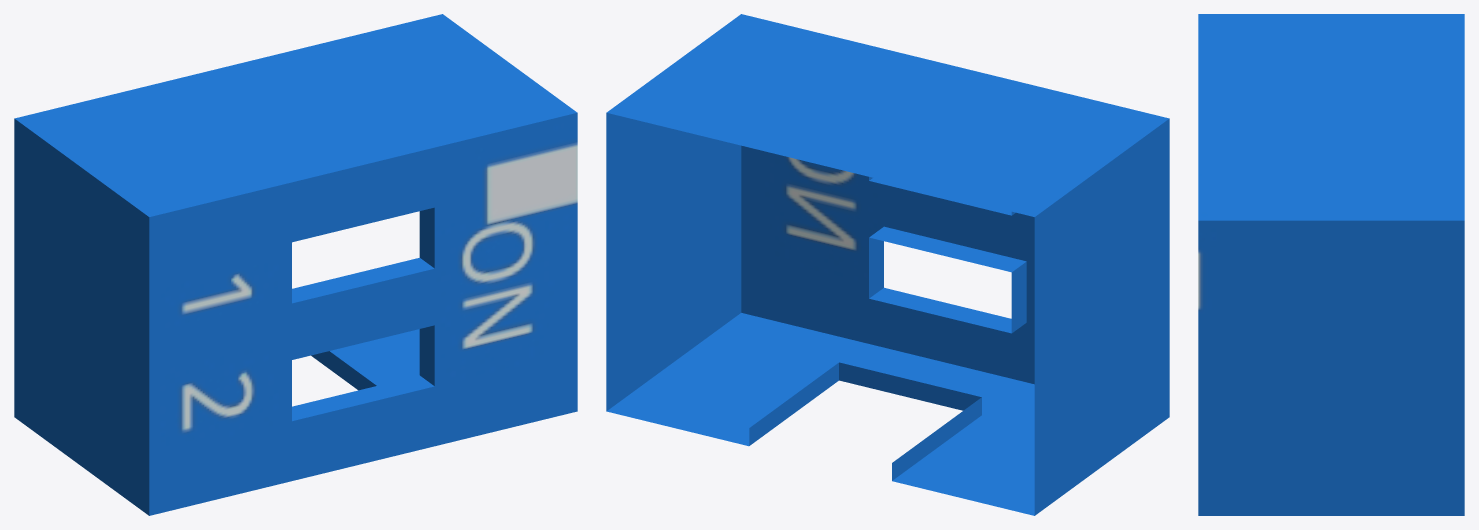
The model's file is DIP-SW.obj.
The picture shows the model from 3 angles, left to right: view 1: azimuth 30°, elevation 25°; view 2: azimuth 150°, elevation 25°; view 3: azimuth 270°, elevation 25°; orthographic projection.
Visible parts, largest first — view 1: DIP-SW; view 2: DIP-SW; view 3: DIP-SW.
Part boxes in pixels (left/top/right/bottom): DIP-SW: left=14, top=14, right=577, bottom=515; DIP-SW: left=606, top=14, right=1169, bottom=515; DIP-SW: left=1198, top=14, right=1464, bottom=515.
Size of the model in its own units: 0.0099 by 0.0066 by 0.0054.
